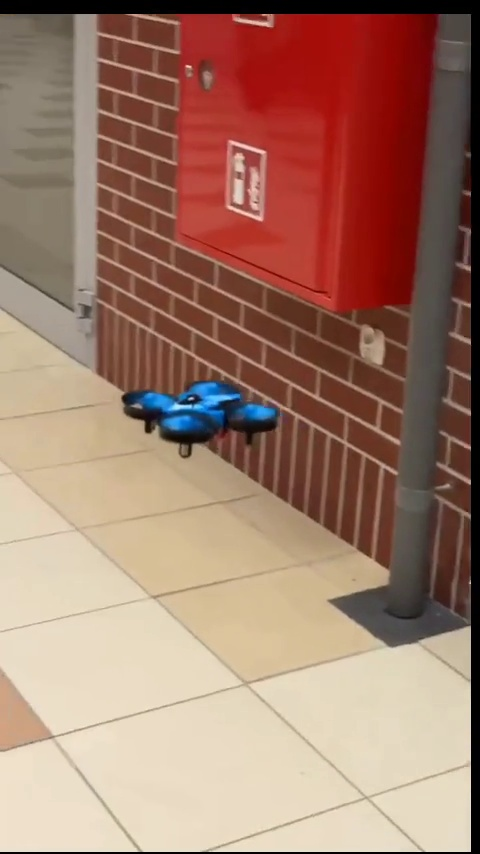drone: (129, 376, 277, 447)
